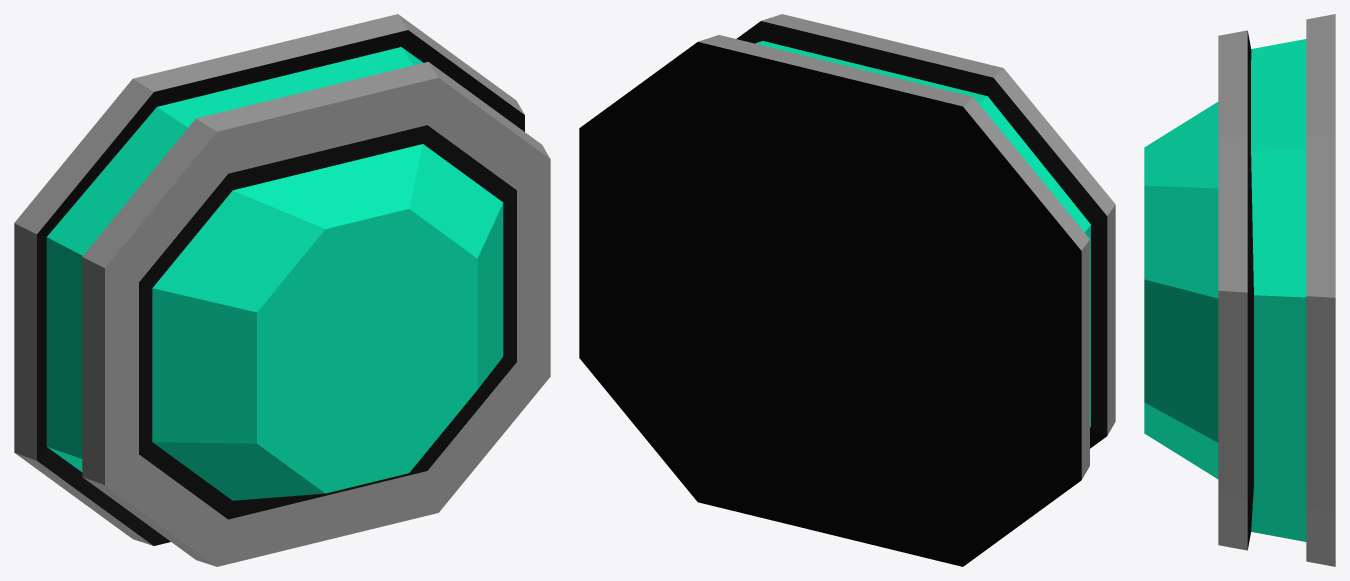
File: lamp_01.FBX
The picture shows the model from 3 angles, left to right: view 1: azimuth 30°, elevation 25°; view 2: azimuth 150°, elevation 25°; view 3: azimuth 270°, elevation 25°; orthographic projection. The views are drawn at different scales.
Visible parts, largest first — view 1: lamp_01; view 2: lamp_01; view 3: lamp_01.
Part boxes in pixels (x1,y1,x2,y2): lamp_01: (14,14,550,566); lamp_01: (579,14,1115,566); lamp_01: (1144,14,1335,566).
Size of the model in its own units: 13.83 by 12.11 by 4.86.
